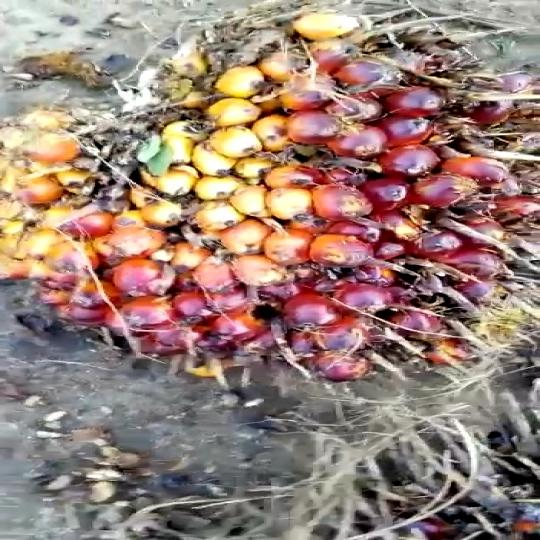masak: (0, 11, 540, 377)
